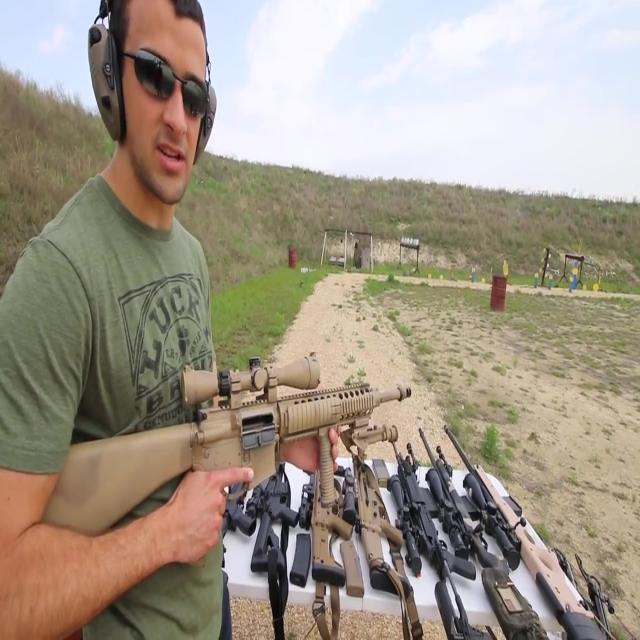Weapon: (162, 352, 620, 640), (0, 311, 443, 592)
